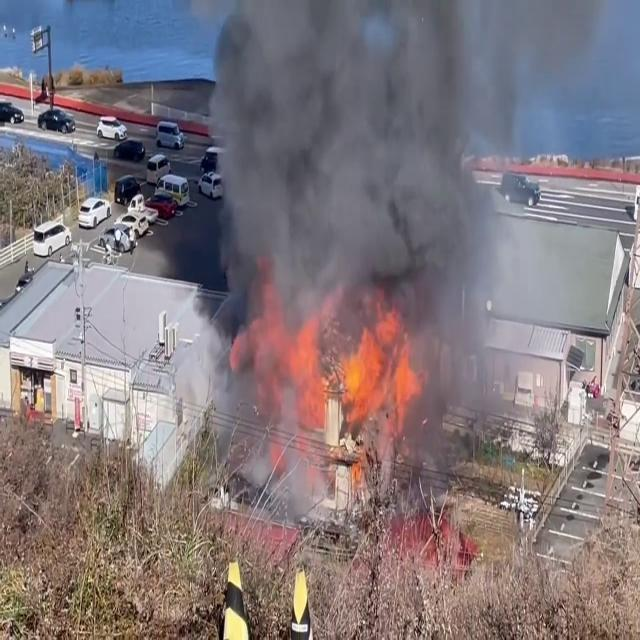Fire: (288, 300, 422, 472)
Smoke: (182, 1, 542, 370)
